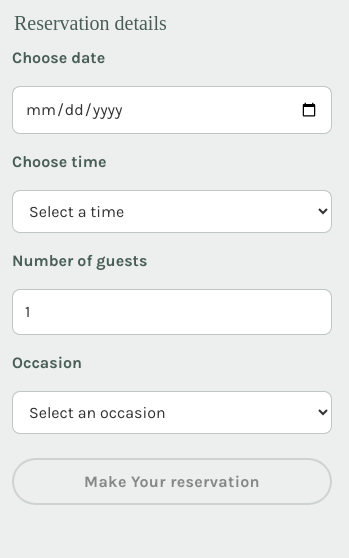
Test case: BookingForm JavaScript validation › shows an error and keeps submit disabled for an invalid guest count
Replace the text in the number field labelled "Number of guests" with "0". click: {"x": 172, "y": 312}
box: [12,289,332,335]
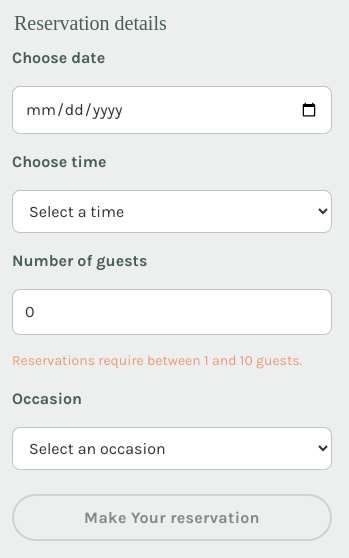
Expected: the button with aria-label "On Click" is disabled, [12,494,332,541]
Now the message shows "Reservations require between 1 and 10 guests", box [12,352,302,369]
